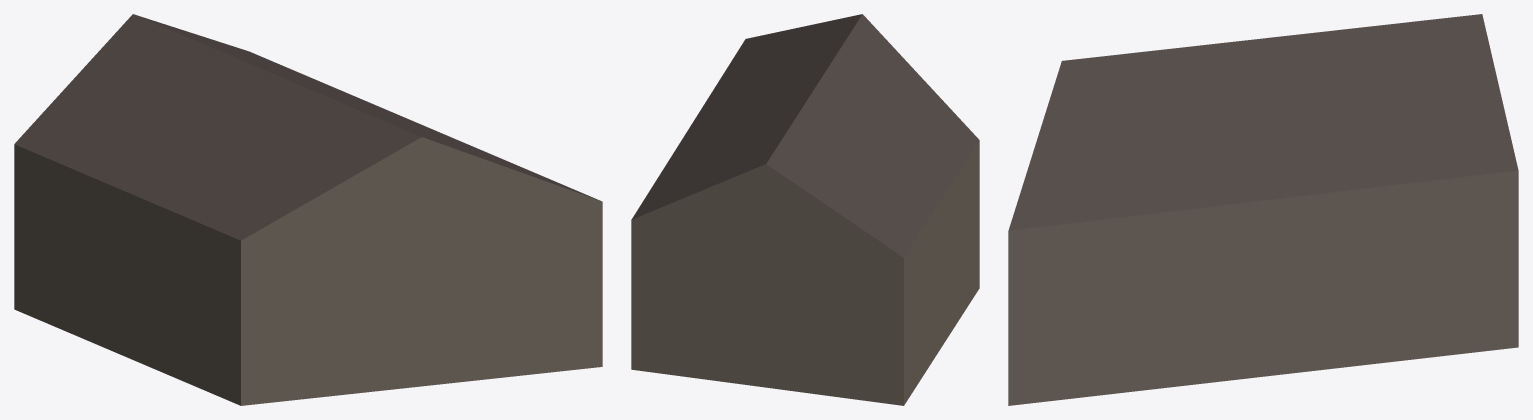
3 views of the same model, side by side, from view 1: azimuth 30°, elevation 25°; view 2: azimuth 150°, elevation 25°; view 3: azimuth 270°, elevation 25° (orthographic). The views are drawn at different scales.
Visible parts, largest first — view 1: HP-w1197020935; view 2: HP-w1197020935; view 3: HP-w1197020935.
Part boxes in pixels (left/top/right/bottom): HP-w1197020935: left=14, top=14, right=602, bottom=405; HP-w1197020935: left=631, top=14, right=979, bottom=405; HP-w1197020935: left=1008, top=14, right=1518, bottom=405.
Bounding box in the file's own units: 14.54 × 9.06 × 15.83.
